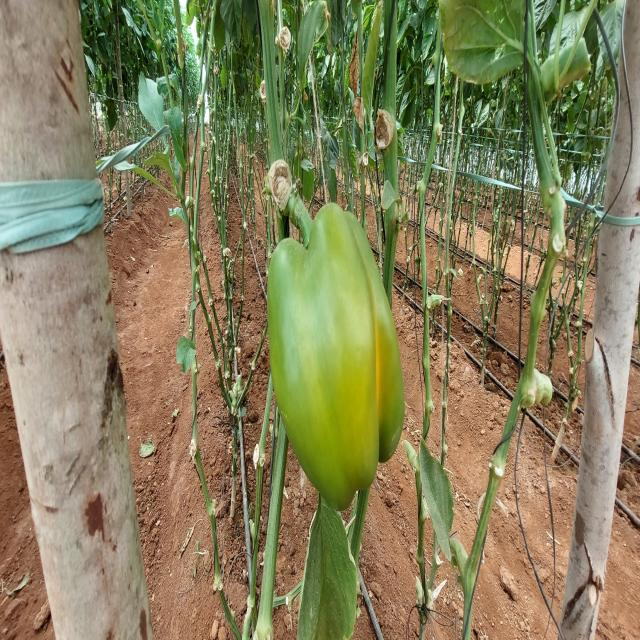GreenishYellow--Can-be-Harvested: (259, 222, 417, 508)
